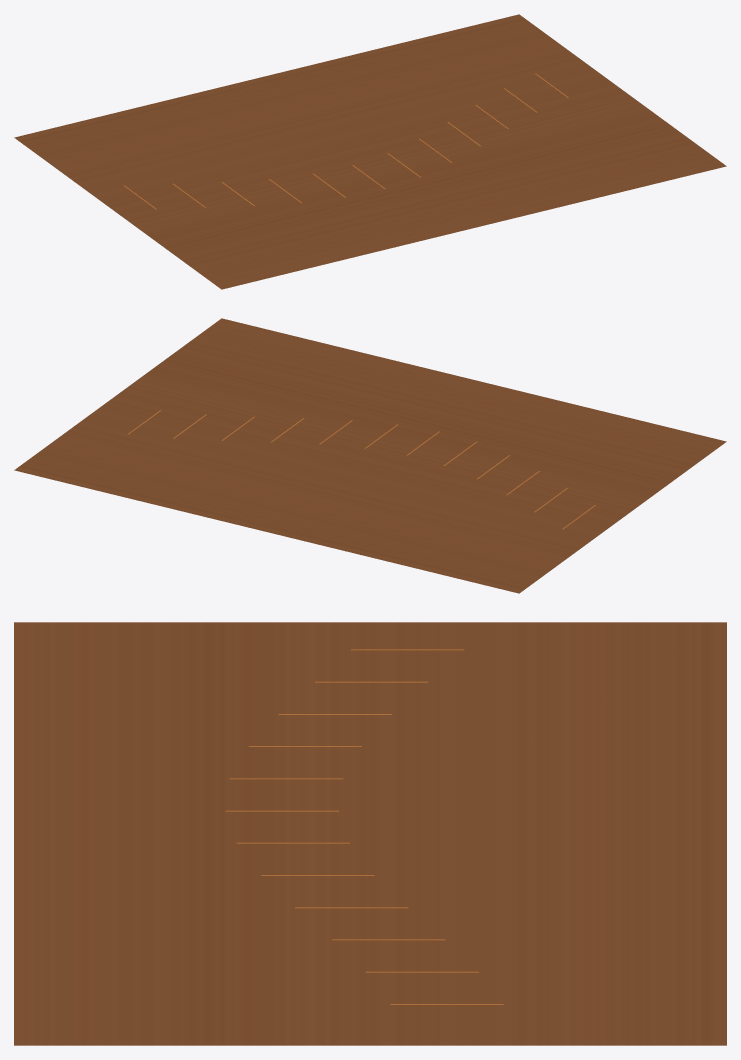
The model's file is 258_L119_L9_LayerReference.obj.
3 renders of one model, top to bottom at view 1: azimuth 30°, elevation 25°; view 2: azimuth 150°, elevation 25°; view 3: azimuth 270°, elevation 25°, orthographic. The views are drawn at different scales.
Parts seen in each view (by area): view 1: 258_L119_L9_LayerReference; view 2: 258_L119_L9_LayerReference; view 3: 258_L119_L9_LayerReference.
Part boxes in pixels (left/top/right/bottom): 258_L119_L9_LayerReference: left=14, top=14, right=726, bottom=289; 258_L119_L9_LayerReference: left=14, top=318, right=726, bottom=593; 258_L119_L9_LayerReference: left=14, top=622, right=726, bottom=1045.
Bounding box in the file's own units: 0.486 × 0.000166 × 0.346.
Materials: 2 (2 with a texture image).
